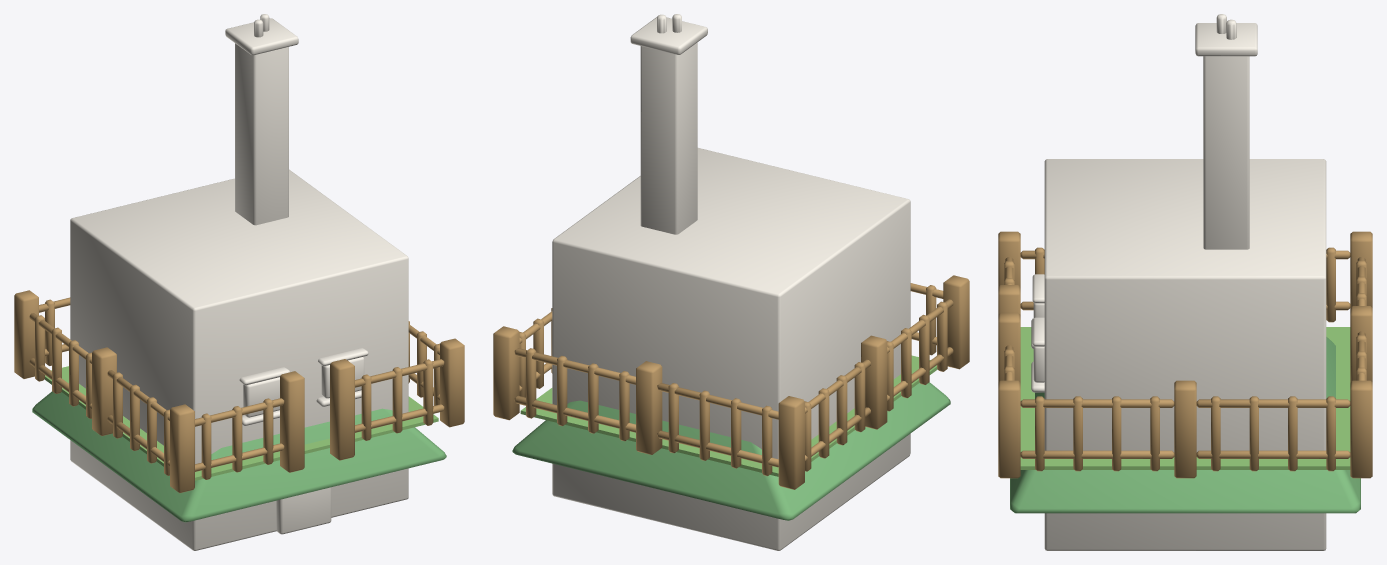
The model's file is house.glb.
3 views of the same model, side by side, from view 1: azimuth 30°, elevation 25°; view 2: azimuth 150°, elevation 25°; view 3: azimuth 270°, elevation 25° (orthographic). The views are drawn at different scales.
Visible parts, largest first — view 1: body, fence, roof, lawn; view 2: body, fence, roof, lawn; view 3: body, fence, roof, lawn.
Boxes of the visible parts, <box> form: body: <box>70,14,408,550</box>; fence: <box>14,290,464,493</box>; roof: <box>32,391,446,522</box>; lawn: <box>44,366,438,480</box>; body: <box>552,14,910,550</box>; fence: <box>493,275,969,489</box>; roof: <box>512,382,950,520</box>; lawn: <box>520,355,937,476</box>; body: <box>1031,14,1326,550</box>; fence: <box>998,231,1372,478</box>; roof: <box>1010,337,1360,513</box>; lawn: <box>1020,327,1350,469</box>.
Bounding box in the file's own units: 0.938 × 1.37 × 0.938.
